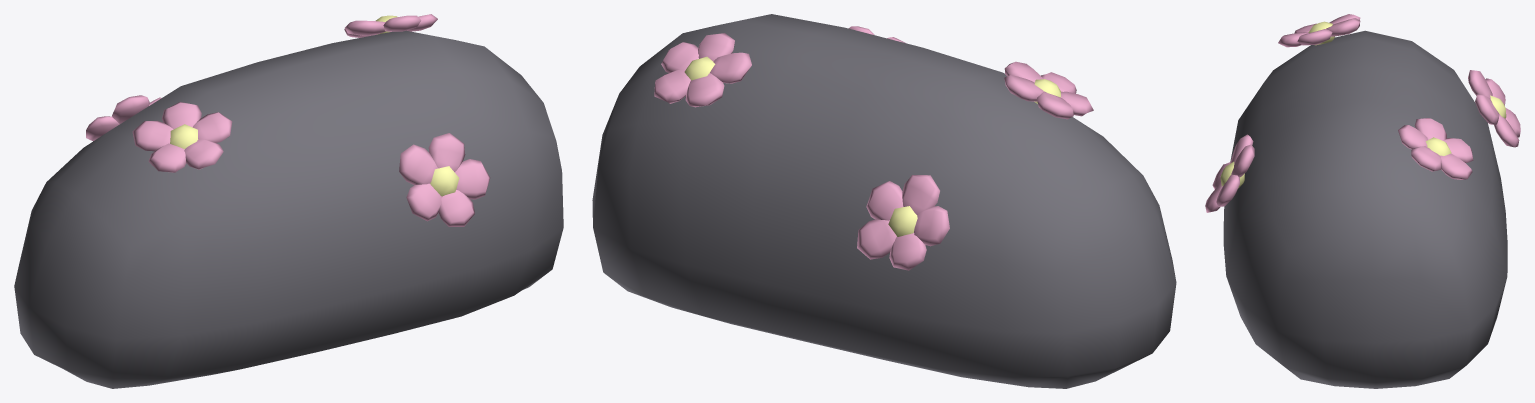
File: Stone_01.fbx
3 views of the same model, side by side, from view 1: azimuth 30°, elevation 25°; view 2: azimuth 150°, elevation 25°; view 3: azimuth 270°, elevation 25° (orthographic). The views are drawn at different scales.
Parts seen in each view (by area): view 1: polySurface1101; view 2: polySurface1101; view 3: polySurface1101.
Boxes of the visible parts, bbox=[...] form: polySurface1101: bbox=[14, 14, 563, 388]; polySurface1101: bbox=[592, 14, 1176, 388]; polySurface1101: bbox=[1205, 14, 1520, 388].
Bounding box in the file's own units: 85.87 × 40.06 × 49.88.
